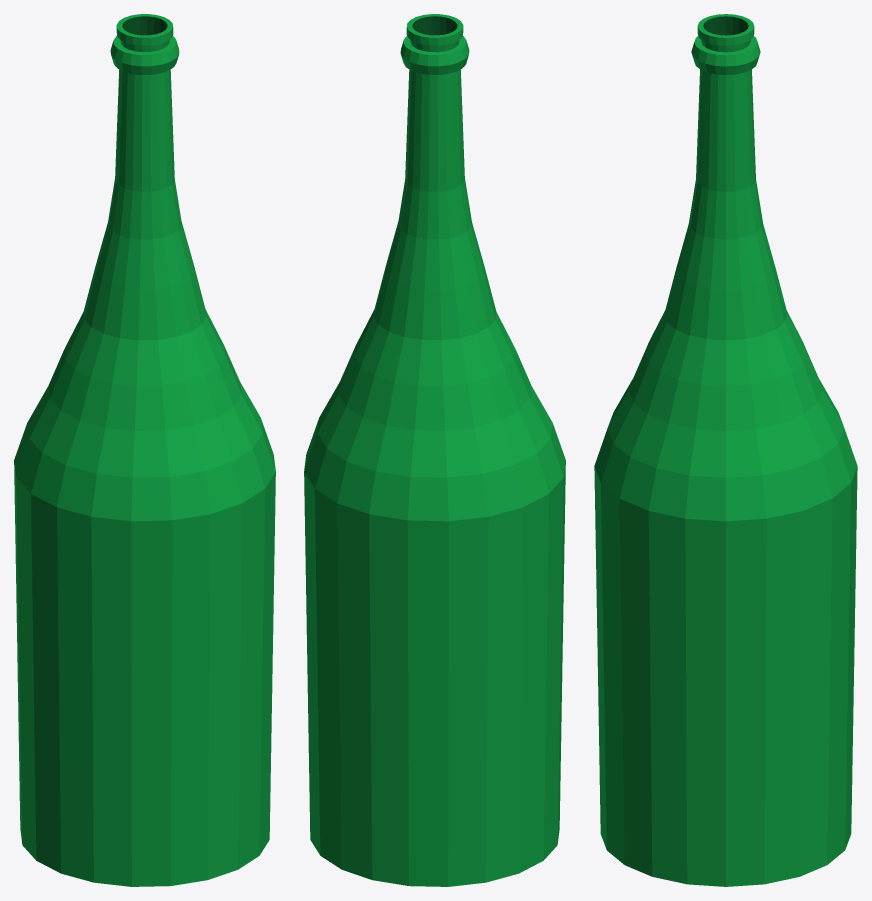
File: Bottle1.fbx
The picture shows the model from 3 angles, left to right: view 1: azimuth 30°, elevation 25°; view 2: azimuth 150°, elevation 25°; view 3: azimuth 270°, elevation 25°; orthographic projection.
Visible parts, largest first — view 1: Buttle2.001; view 2: Buttle2.001; view 3: Buttle2.001.
Part boxes in pixels (x1=…): Buttle2.001: x1=14, y1=14, x2=275, y2=886; Buttle2.001: x1=304, y1=14, x2=565, y2=886; Buttle2.001: x1=594, y1=14, x2=857, y2=886.
Bounding box in the file's own units: 500 × 1695 × 500.
